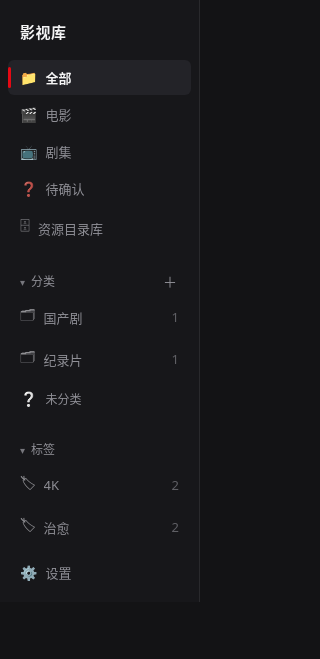
Test: Sidebar 的分类 / 标签折叠 › 分类栏的「新建」按钮不会把栏收起来
What coordinates should you click on to do the following:
click the button "＋"
I would click on:
 (170, 282)
Its box is [161, 275, 179, 289].
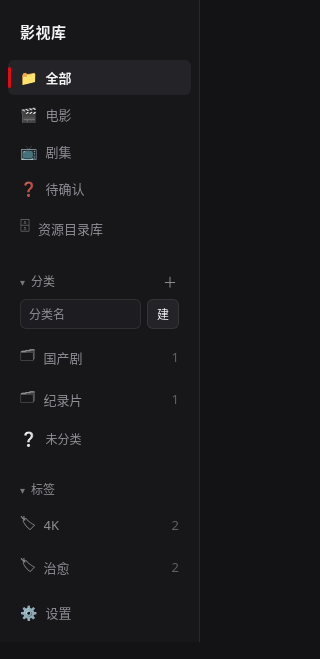
expect the field with class "mini-input" is shown: met, box [20, 299, 141, 329]
